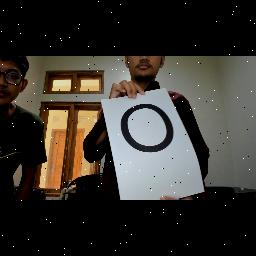o: (118, 101, 178, 155)
